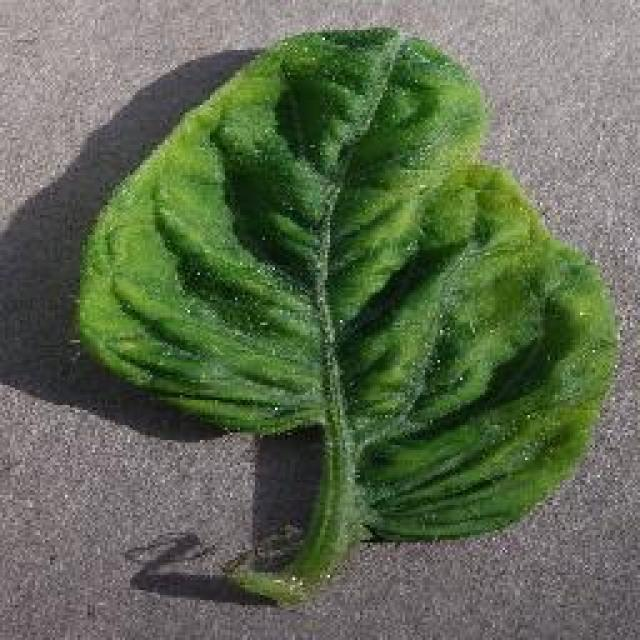Tomato yellow virus leaf: (70, 21, 620, 546)
